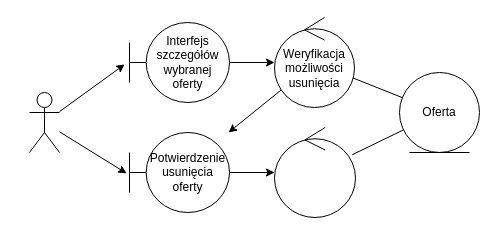
Image size: 497x235. Some labels were removed from this diagram. The centre of each missing label's shape, as x and y in pixels:
Pracownik: point 44,122
Usunięcie oferty: point 315,172
